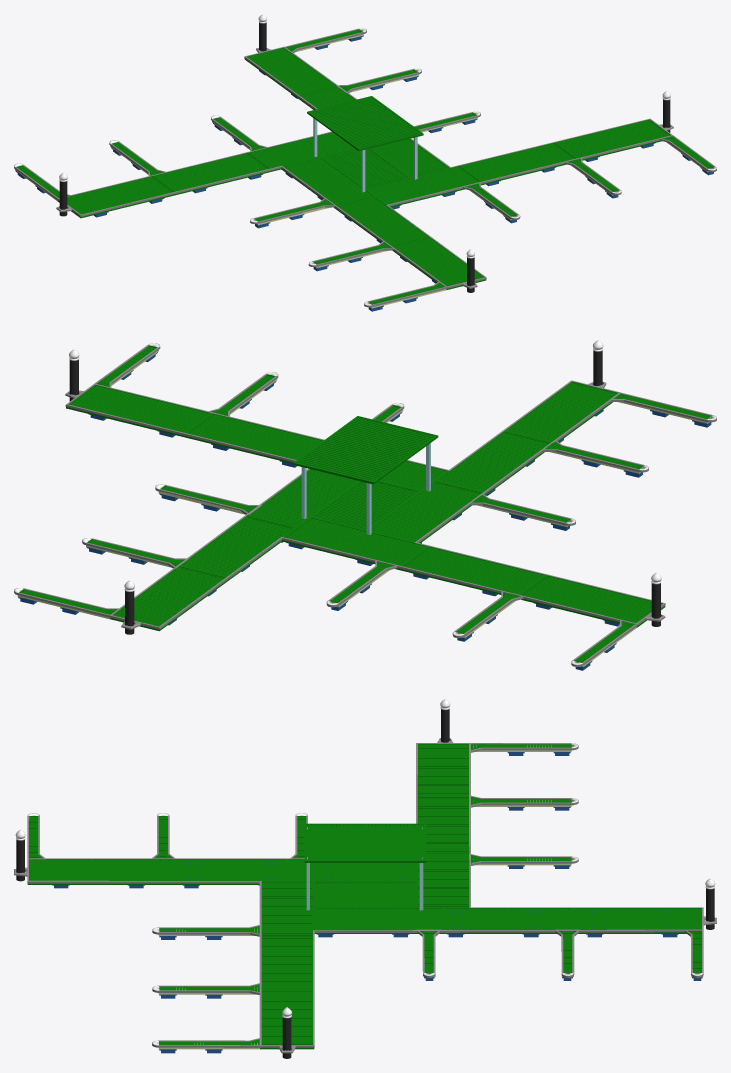
The model's file is Pantalan_completo.obj.
3 views of the same model, one above another, from view 1: azimuth 30°, elevation 25°; view 2: azimuth 150°, elevation 25°; view 3: azimuth 270°, elevation 25° (orthographic). The views are drawn at different scales.
Parts seen in each view (by area): view 1: Wall001, Box271, Box014, Box012, Box016, Box013, Box015, Box010, Box009, Box007, Box008, Box002 (+3 smaller); view 2: Box271, Wall001, Box011, Box015, Box012, Box006, Box013, Box009, Box010, Box008, Box016, Box007 (+8 smaller); view 3: Box271, Wall001, Box005, Box006, Box008, Box009, Box007, Box014, Box016, Box013, Box002, Box011 (+4 smaller).
Boxes of the visible parts, x1,y1,x2,y2 form: Wall001: (58,46,673,288); Box271: (307,96,423,150); Box014: (365,165,482,207); Box012: (154,152,271,194); Box016: (461,142,576,184); Box013: (57,175,175,218); Box015: (555,119,670,160); Box010: (281,156,375,209); Box009: (336,197,429,246); Box007: (244,47,337,99); Box008: (392,237,486,289); Box002: (321,148,409,188); Box271: (293,416,438,484); Wall001: (65,380,665,629); Box011: (282,517,427,569); Box015: (66,384,211,436); Box012: (399,546,545,594); Box006: (180,516,295,580); Box013: (519,575,665,627); Box009: (435,431,550,495); Box010: (371,481,482,543); Box008: (505,381,617,442); Box016: (184,413,323,463); Box007: (110,566,227,631); Box271: (304,823,426,862); Wall001: (27,743,703,1047); Box005: (314,907,443,933); Box006: (443,907,573,933); Box008: (27,859,157,884); Box009: (157,859,286,884); Box007: (573,908,701,933); Box014: (261,881,314,936); Box016: (261,936,312,990); Box013: (417,744,468,798); Box002: (314,881,416,907); Box011: (416,853,469,907).
Size of the model in its own units: 85.6 by 7.72 by 81.02.
